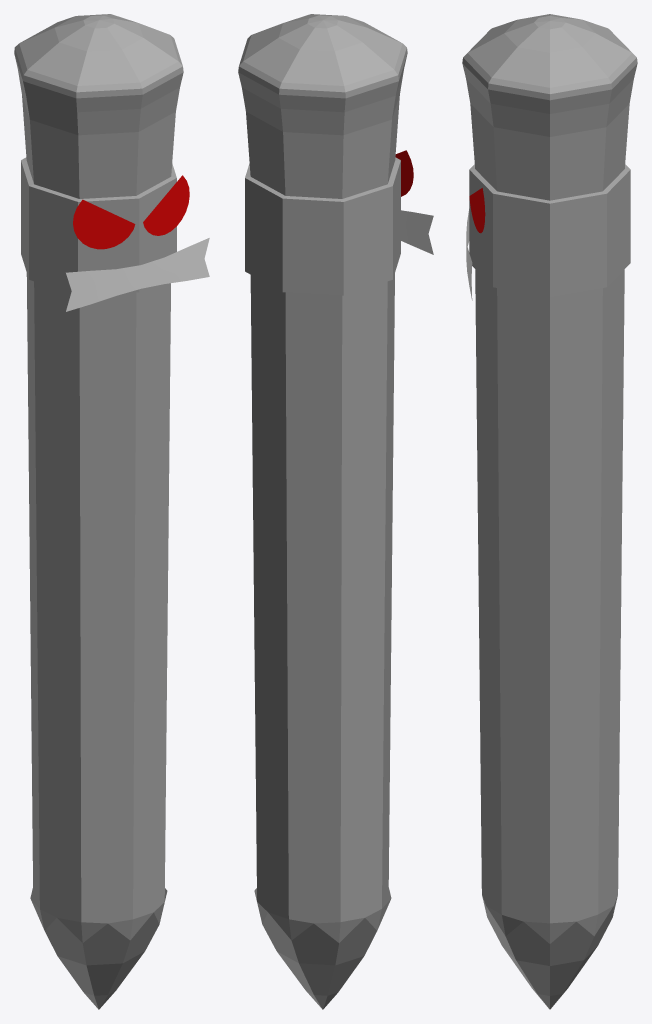
File: Pencil.fbx
3 renders of one model, left to right at view 1: azimuth 30°, elevation 25°; view 2: azimuth 150°, elevation 25°; view 3: azimuth 270°, elevation 25°, orthographic.
Parts seen in each view (by area): view 1: pPlane2; view 2: pPlane2; view 3: pPlane2.
Boxes of the visible parts, left/top/right/bottom form: pPlane2: left=14, top=14, right=209, bottom=1009; pPlane2: left=238, top=14, right=433, bottom=1009; pPlane2: left=462, top=14, right=637, bottom=1009.
Size of the model in its own units: 30.3 by 189 by 30.3.
